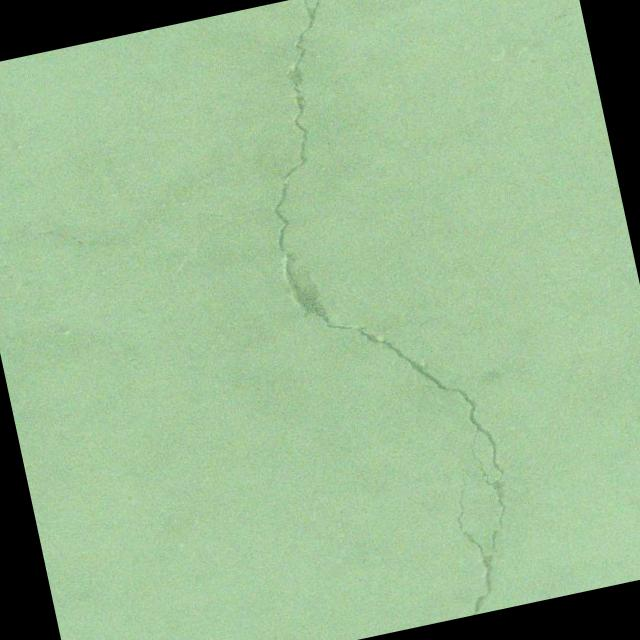crack: (185, 0, 531, 640), (0, 186, 227, 273)
